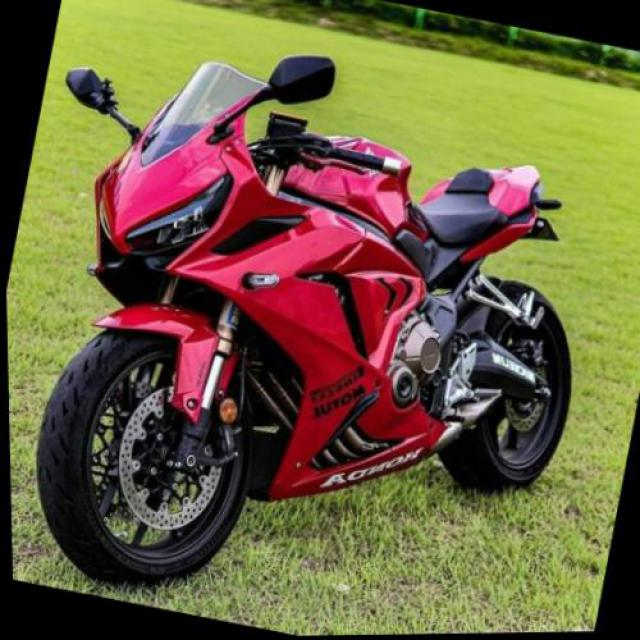CBR650R: (1, 32, 633, 639)
